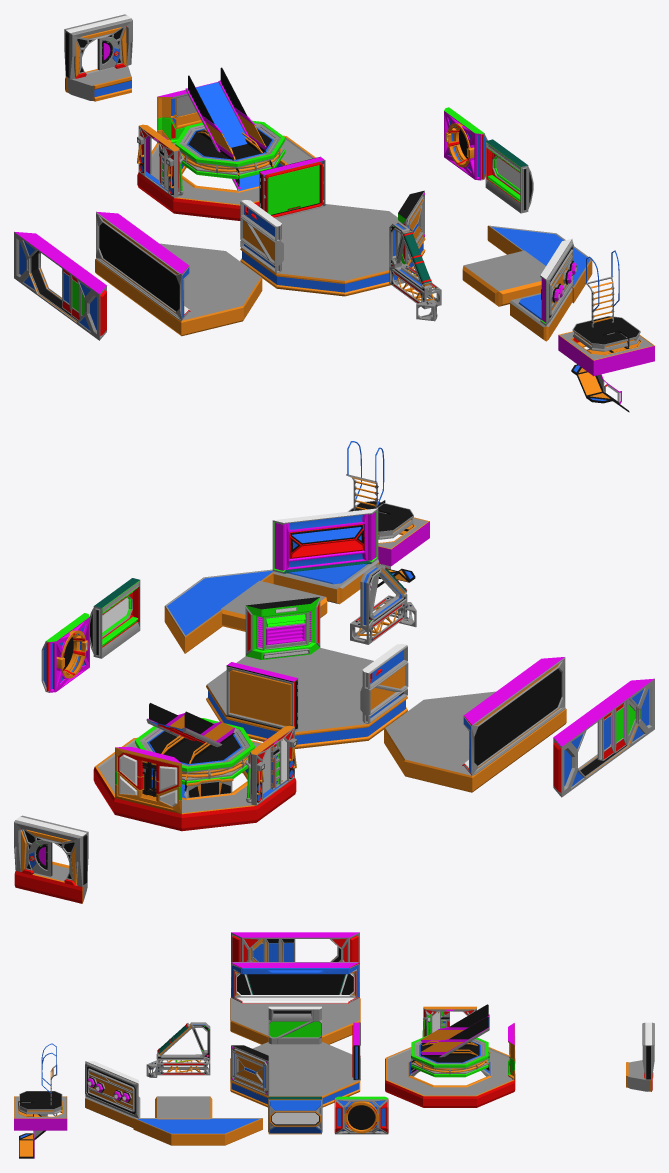
The model's file is BaseBlocks00.fbx.
3 renders of one model, top to bottom at view 1: azimuth 30°, elevation 25°; view 2: azimuth 150°, elevation 25°; view 3: azimuth 270°, elevation 25°, orthographic. The views are drawn at different scales.
Parts seen in each view (by area): view 1: Box006, Box010, Box015, Box040, Box019, Box027, Plane001, Box011, Box007, Box031, Box009, Box016 (+17 smaller); view 2: Box006, Box010, Box015, Box013, Box019, Box040, Box018, Box009, Box011, Box037, Box027, Box031 (+17 smaller); view 3: Box015, Box006, Box019, Box010, Box009, Box016, Box039, Box013, Box032, Box027, Box040, Plane001 (+15 smaller).
Boxes of the visible parts, <box> form: Box006: <box>240,204,425,296</box>; Box010: <box>95,243,262,336</box>; Box015: <box>96,211,190,320</box>; Box040: <box>14,231,106,340</box>; Box019: <box>137,135,315,220</box>; Box027: <box>175,120,285,179</box>; Plane001: <box>185,67,272,189</box>; Box011: <box>259,156,325,218</box>; Box007: <box>462,250,545,306</box>; Box031: <box>64,14,132,79</box>; Box009: <box>487,225,592,303</box>; Box016: <box>485,139,533,213</box>; Box006: <box>206,647,407,748</box>; Box010: <box>384,691,566,792</box>; Box015: <box>462,657,565,775</box>; Box013: <box>272,508,378,573</box>; Box019: <box>93,737,296,831</box>; Box040: <box>553,678,654,797</box>; Box018: <box>245,597,320,659</box>; Box009: <box>164,569,274,653</box>; Box011: <box>226,662,298,730</box>; Box037: <box>115,747,181,814</box>; Box027: <box>135,718,254,784</box>; Box031: <box>14,815,88,886</box>; Box015: <box>231,962,359,1003</box>; Box006: <box>230,1042,360,1107</box>; Box019: <box>385,1047,515,1107</box>; Box010: <box>230,997,360,1044</box>; Box009: <box>133,1118,262,1145</box>; Box016: <box>268,1096,322,1134</box>; Box039: <box>334,1096,388,1134</box>; Box013: <box>85,1061,138,1118</box>; Box032: <box>268,1006,321,1044</box>; Box027: <box>411,1035,488,1077</box>; Box040: <box>231,932,359,962</box>; Plane001: <box>410,1004,489,1075</box>.
Size of the model in its own units: 311 by 93.16 by 497.
